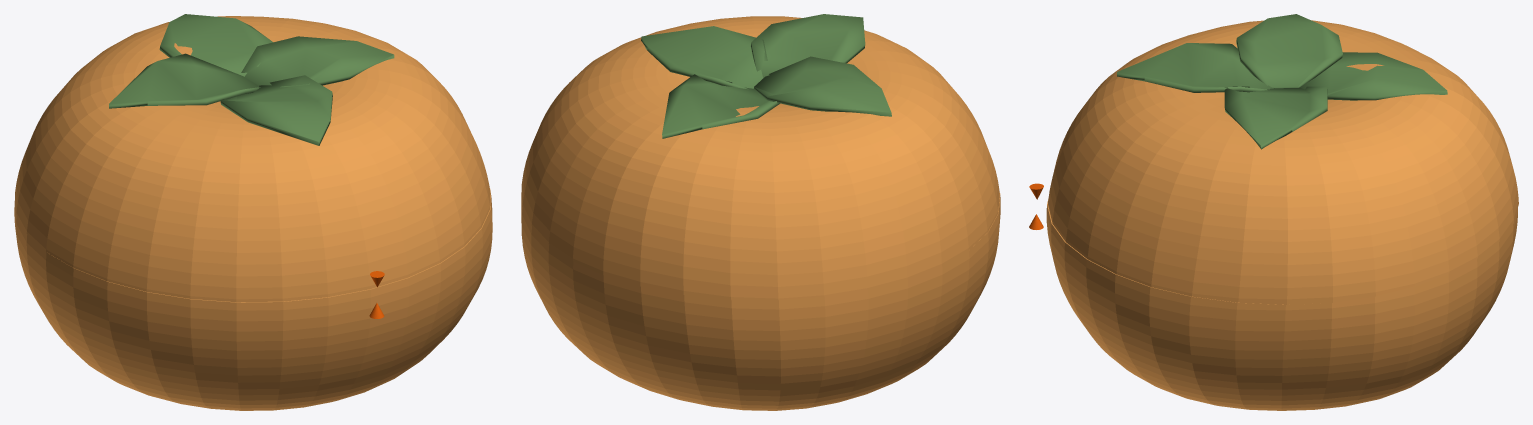
Rendered from persimmon.glb.
3 views of the same model, side by side, from view 1: azimuth 30°, elevation 25°; view 2: azimuth 150°, elevation 25°; view 3: azimuth 270°, elevation 25° (orthographic).
Parts seen in each view (by area): view 1: top, bottom; view 2: top, bottom; view 3: top, bottom.
Part boxes in pixels (bbox=[...]): top: bbox=[15, 14, 490, 302]; bottom: bbox=[14, 189, 492, 410]; top: bbox=[521, 14, 999, 300]; bottom: bbox=[521, 192, 1000, 410]; top: bbox=[1048, 14, 1518, 304]; bottom: bbox=[1046, 200, 1517, 410].
Size of the model in its own units: 2.21 by 1.51 by 2.27.
